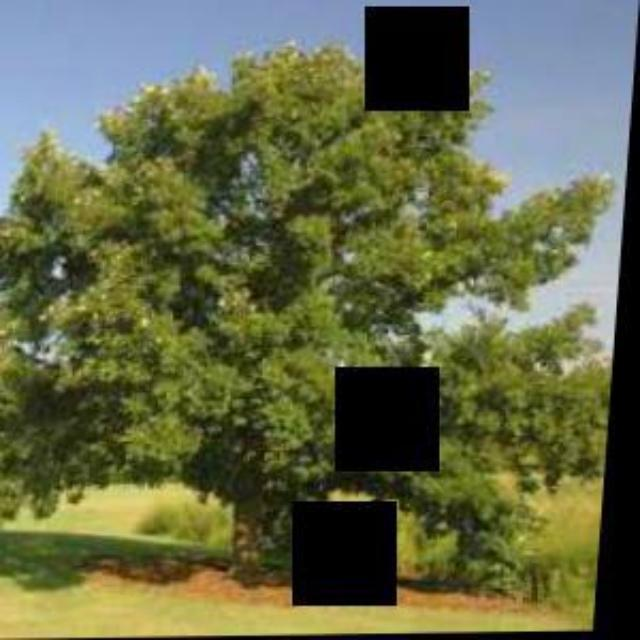tree: (1, 26, 630, 586)
